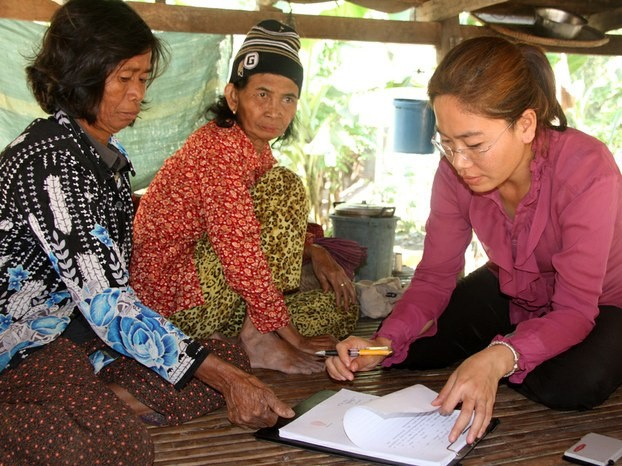face_no_mask: (31, 2, 157, 134), (424, 75, 529, 196), (229, 49, 302, 148)
